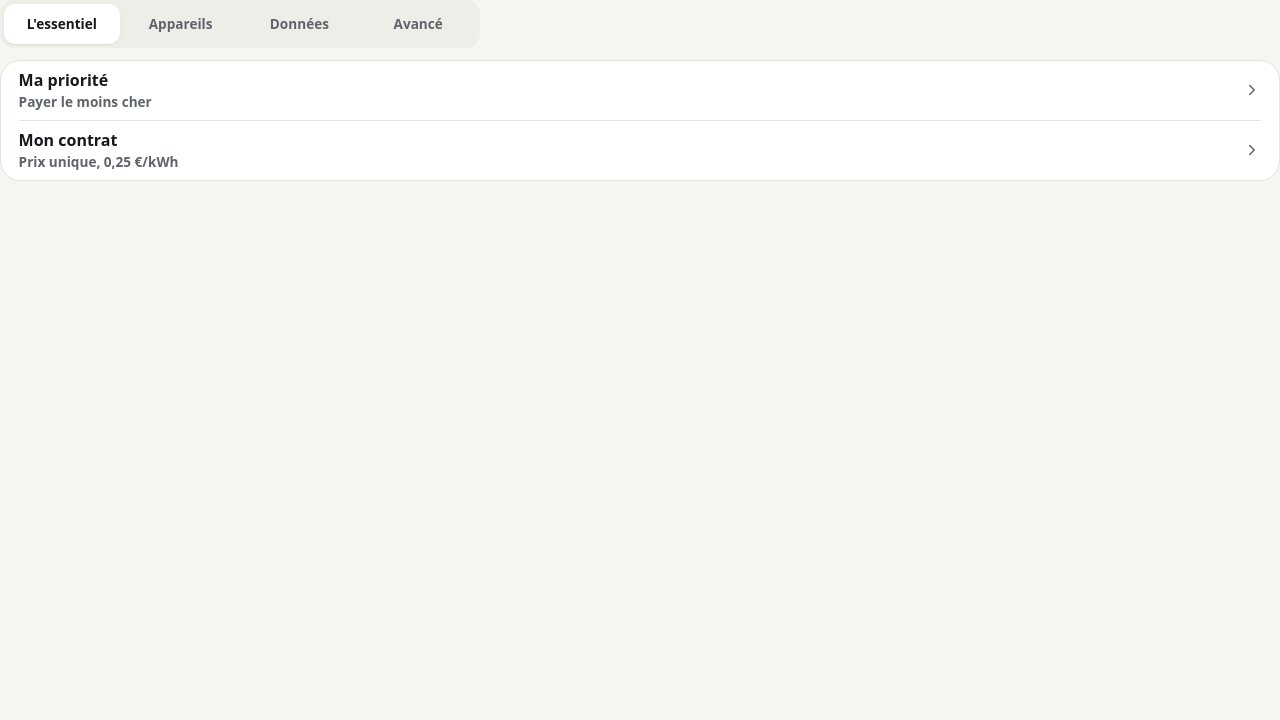
Test: fiche d'un appareil › renomme un appareil et retire un capteur, dans la même fiche que ses réglages
This screenshot has width=1280, height=720.
Step 1. Click the tab "Appareils" → point(181, 24), box [123,4,238,44]
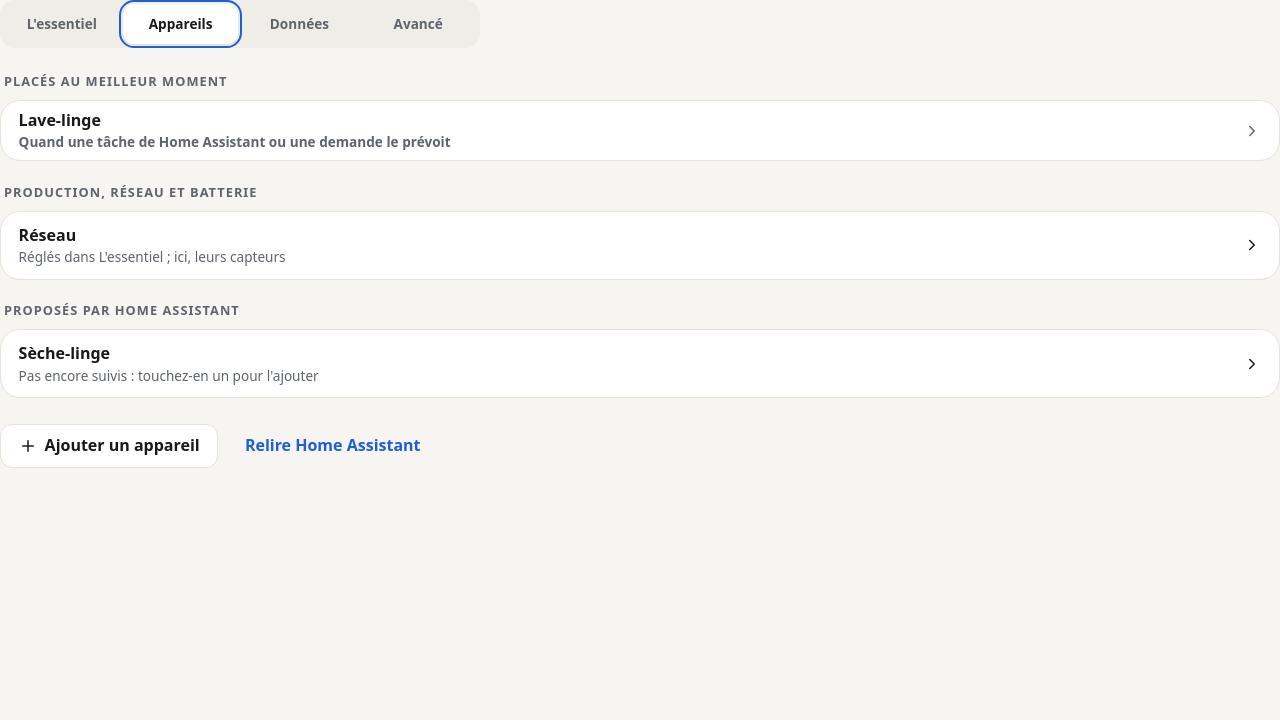
Step 2. Click the button "Lave-linge" → point(60, 120), box [19,101,1261,160]
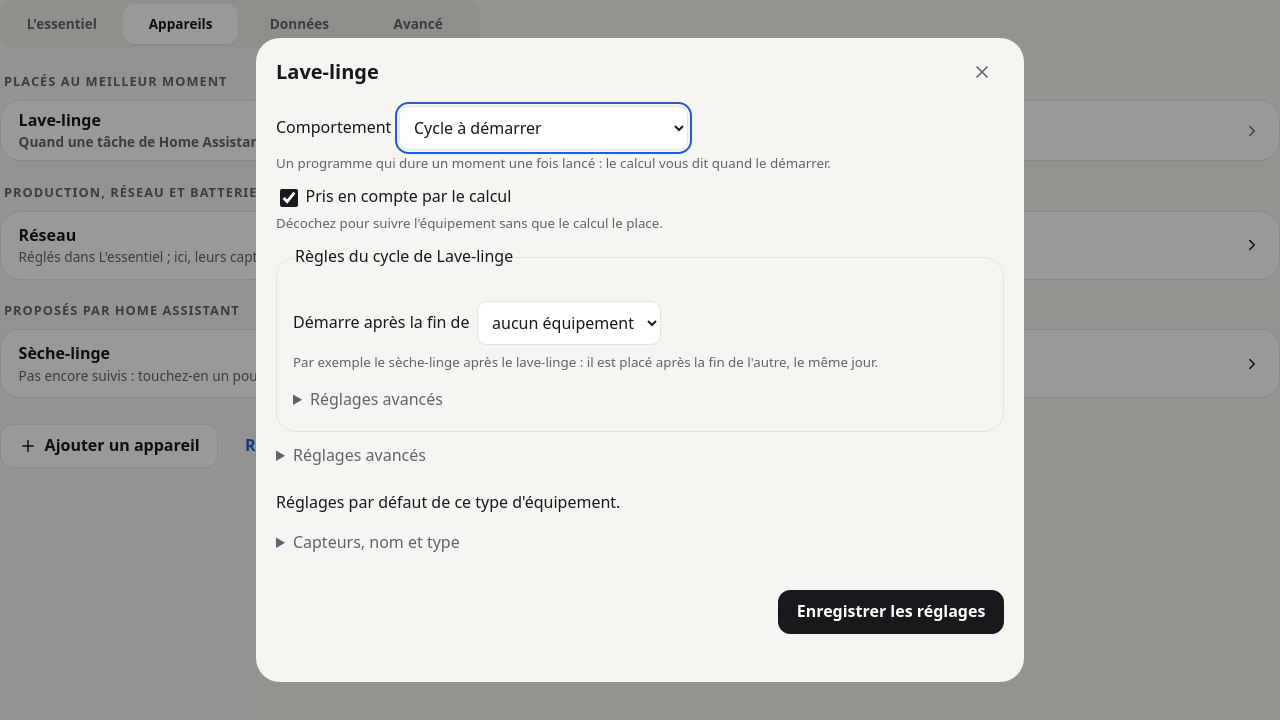
Now the dropdown labelled "Comportement" shows "Cycle à démarrer", box [399,106,688,150]
Step 3. Click the heading "Capteurs, nom et type" → point(376, 542), box [293,530,460,552]
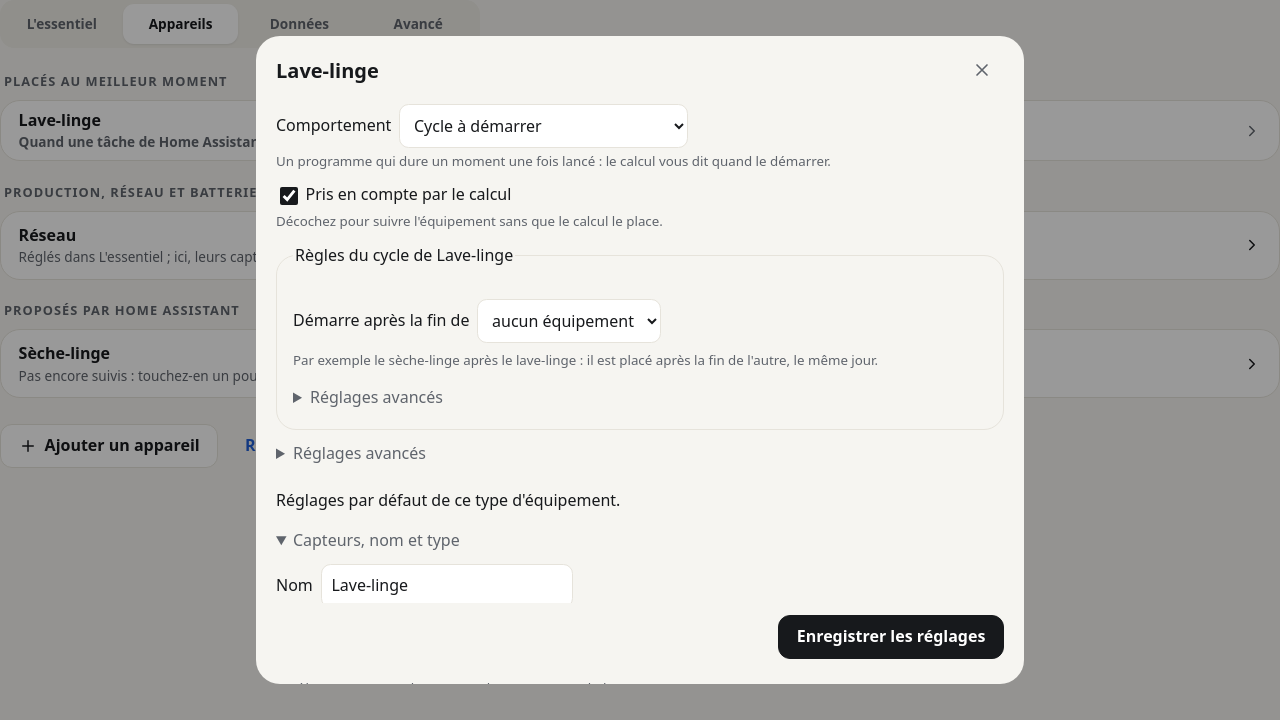
Step 4. Replace the text in the field labelled "Nom" with "Lave-linge du garage" → point(447, 586), box [321,564,573,608]
(page scrolled)
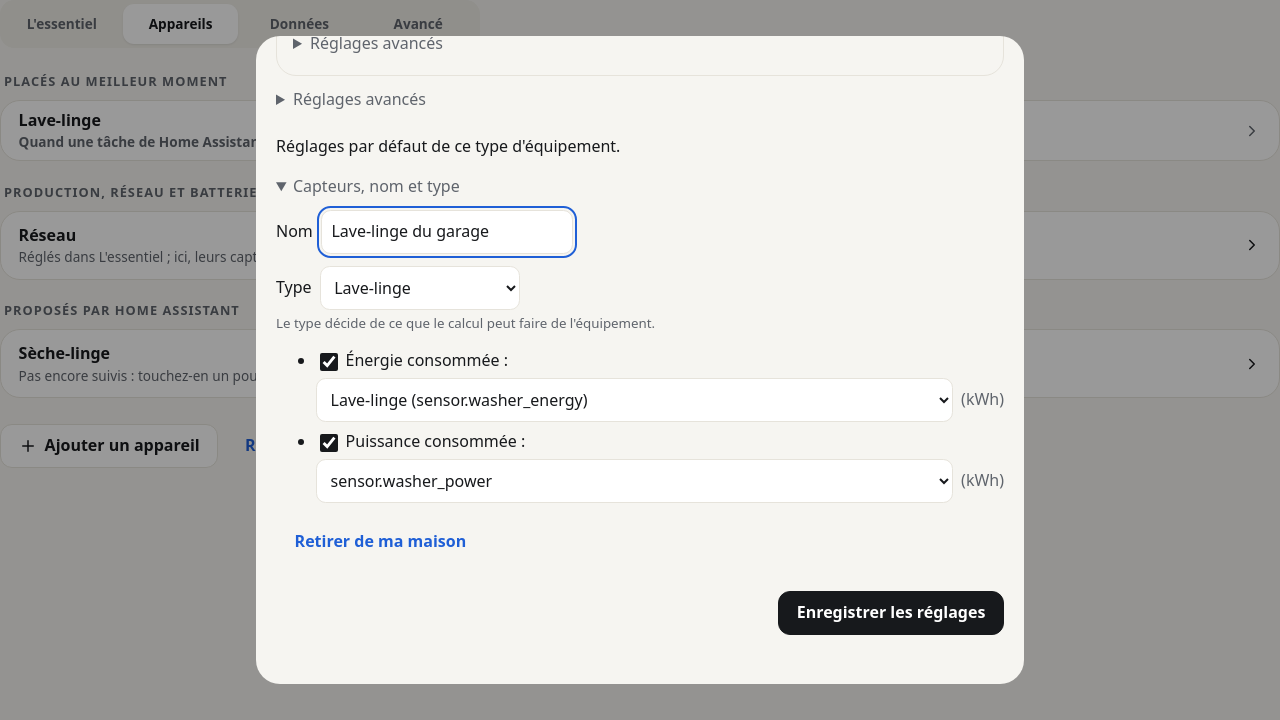
Step 5. Click the checkbox named "Retenir sensor.washer_power" → point(329, 443), box [320,434,338,452]
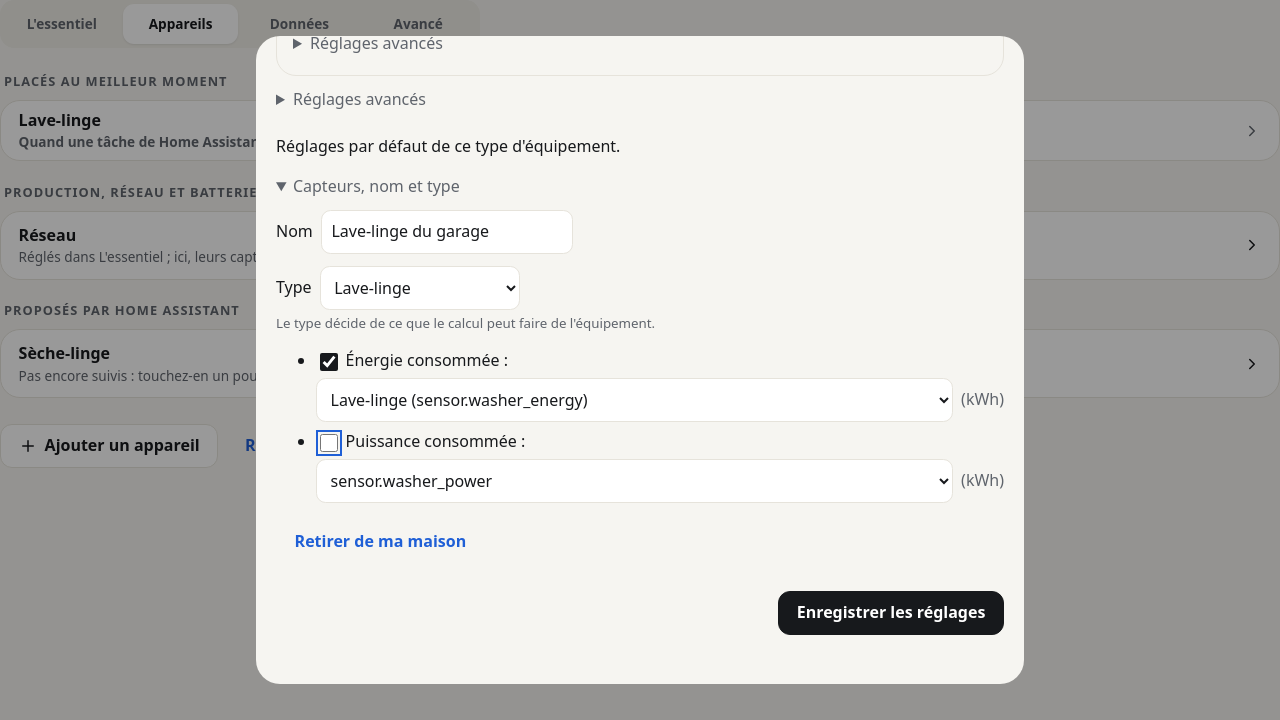
Step 6. Click the button "Enregistrer les réglages" → point(891, 614), box [778,591,1004,636]
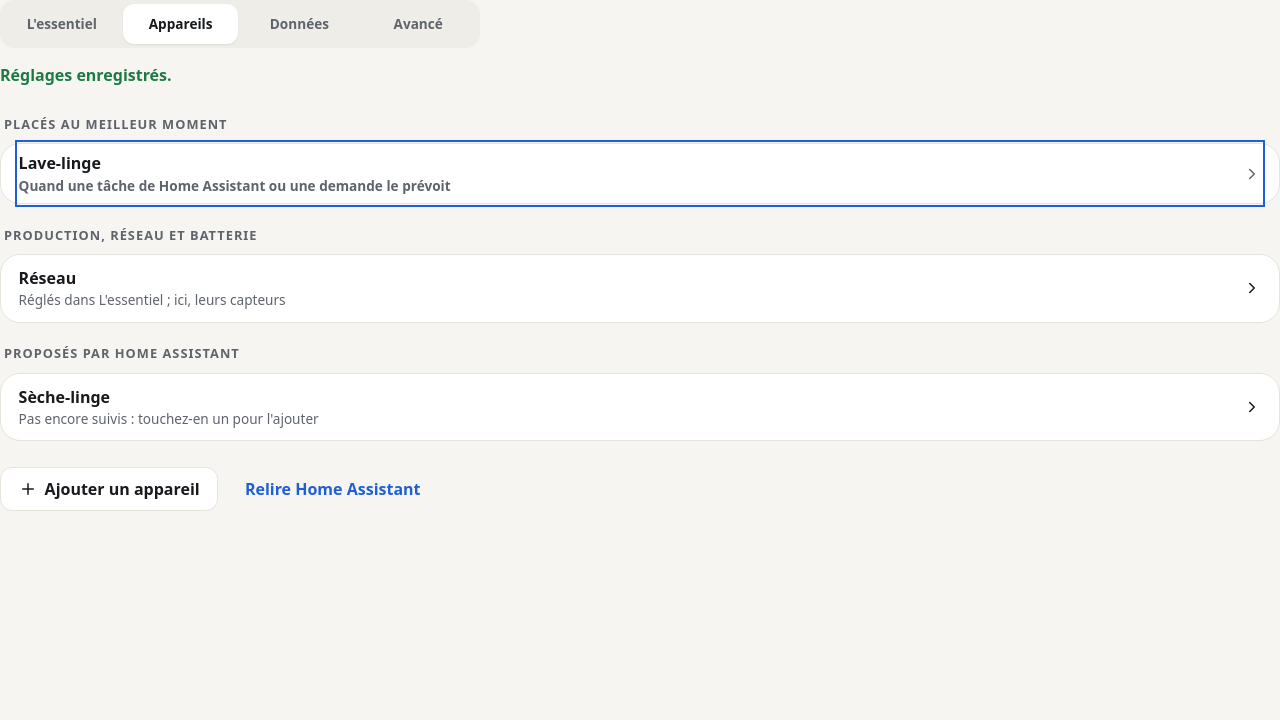
Now the text "Réglages enregistrés." is shown, box [0,64,172,86]
